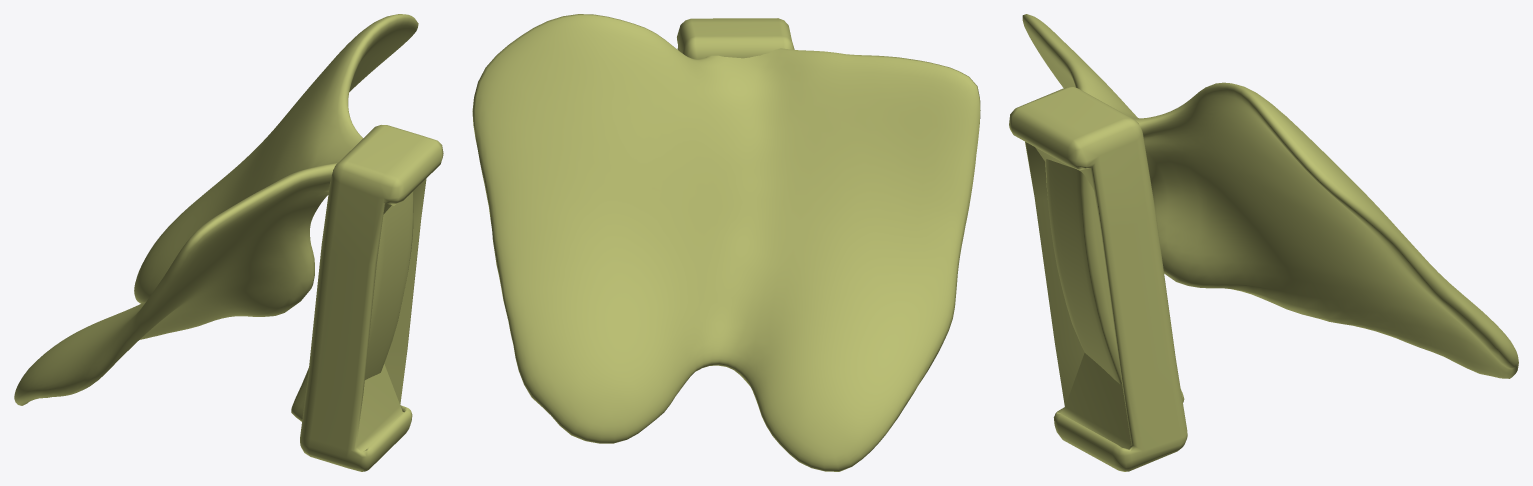
The model's file is BR3_Spacers_BaguetteMetal.001 3.glb.
3 renders of one model, left to right at view 1: azimuth 30°, elevation 25°; view 2: azimuth 150°, elevation 25°; view 3: azimuth 270°, elevation 25°, orthographic. The views are drawn at different scales.
Visible parts, largest first — view 1: BR3_Spacers_BaguetteMetal.001; view 2: BR3_Spacers_BaguetteMetal.001; view 3: BR3_Spacers_BaguetteMetal.001.
Boxes of the visible parts, x1,y1,x2,y2 form: BR3_Spacers_BaguetteMetal.001: (14,14,443,471); BR3_Spacers_BaguetteMetal.001: (472,14,980,471); BR3_Spacers_BaguetteMetal.001: (1009,14,1518,471).
Size of the model in its own units: 0.9847 by 0.8529 by 0.9776.
